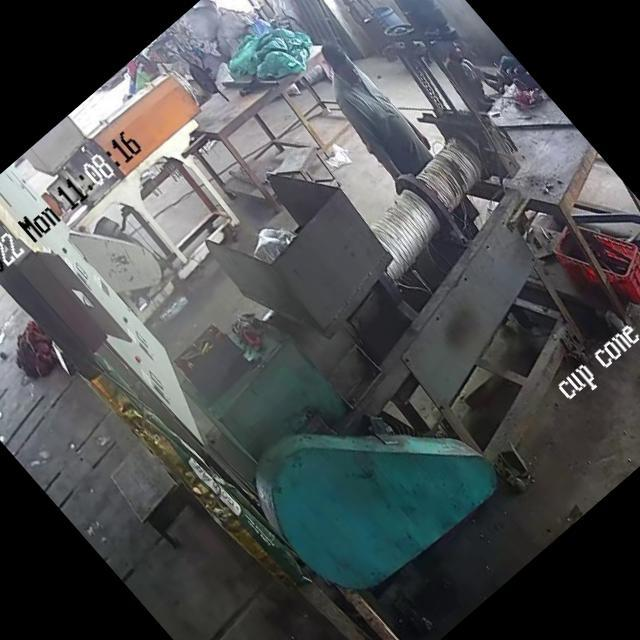person: (304, 33, 436, 174)
